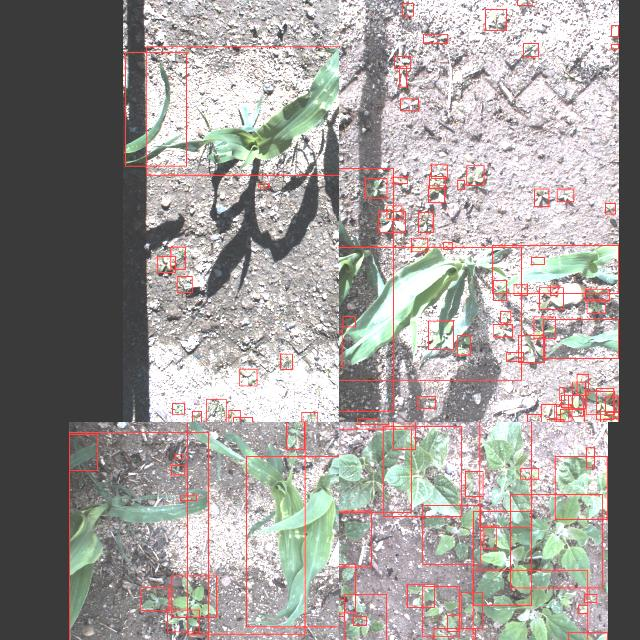crop: (68, 432, 207, 640), (187, 422, 305, 633), (146, 47, 339, 175), (339, 247, 521, 380), (246, 457, 339, 627), (339, 168, 392, 411), (124, 52, 186, 166), (383, 426, 461, 516), (493, 244, 619, 294), (339, 429, 411, 513), (480, 422, 532, 528), (554, 456, 608, 520), (544, 320, 618, 358), (69, 434, 97, 470)
weed: (510, 494, 602, 588), (472, 570, 587, 640), (473, 511, 531, 605), (423, 506, 481, 564), (344, 594, 386, 640), (422, 586, 460, 636), (172, 576, 216, 618), (339, 511, 371, 567), (339, 563, 355, 612), (428, 320, 454, 350), (462, 592, 482, 628), (167, 610, 199, 632), (519, 336, 545, 362), (586, 391, 614, 415), (406, 584, 434, 608), (141, 588, 169, 610), (393, 422, 415, 449), (596, 388, 614, 419), (539, 288, 563, 310), (378, 212, 404, 232), (434, 628, 476, 640), (286, 422, 304, 449), (534, 317, 556, 339), (206, 399, 226, 422), (365, 178, 387, 198), (465, 472, 483, 496), (486, 10, 506, 30), (572, 382, 586, 408), (466, 165, 484, 185), (170, 247, 186, 269), (568, 394, 584, 416), (418, 212, 434, 232), (568, 632, 608, 640), (560, 409, 584, 422), (157, 257, 176, 273), (240, 368, 256, 386), (534, 189, 550, 207), (585, 289, 609, 301), (554, 405, 572, 421), (493, 324, 513, 338), (457, 335, 471, 355), (428, 185, 444, 202), (541, 404, 556, 422), (484, 526, 496, 548), (422, 34, 448, 44), (176, 276, 192, 292), (587, 299, 605, 313), (494, 281, 506, 301), (558, 188, 574, 202), (431, 165, 447, 179), (411, 238, 427, 252), (578, 374, 588, 396), (400, 99, 418, 111), (417, 396, 435, 408), (280, 354, 292, 370), (386, 206, 402, 218), (429, 176, 445, 188), (394, 56, 410, 68), (447, 615, 459, 631), (506, 352, 524, 362), (601, 412, 619, 422), (521, 469, 539, 479), (524, 44, 538, 56), (514, 284, 528, 296), (606, 398, 618, 412), (302, 412, 318, 422), (587, 448, 595, 468), (399, 66, 406, 86), (342, 316, 356, 326), (562, 394, 572, 408), (352, 616, 366, 626), (172, 402, 184, 413), (402, 4, 413, 16), (170, 465, 183, 475), (228, 411, 239, 422), (501, 311, 511, 323), (527, 414, 542, 422), (392, 176, 406, 184), (606, 203, 616, 214), (191, 411, 200, 422), (585, 594, 597, 602), (339, 599, 344, 616), (550, 286, 558, 296), (357, 418, 377, 422), (578, 606, 588, 614), (517, 0, 532, 5), (532, 258, 544, 264), (443, 242, 452, 250), (180, 496, 196, 500), (612, 26, 618, 36), (458, 180, 464, 190), (603, 418, 618, 422), (560, 388, 564, 400), (174, 454, 182, 460), (259, 184, 269, 188), (612, 44, 618, 48)
